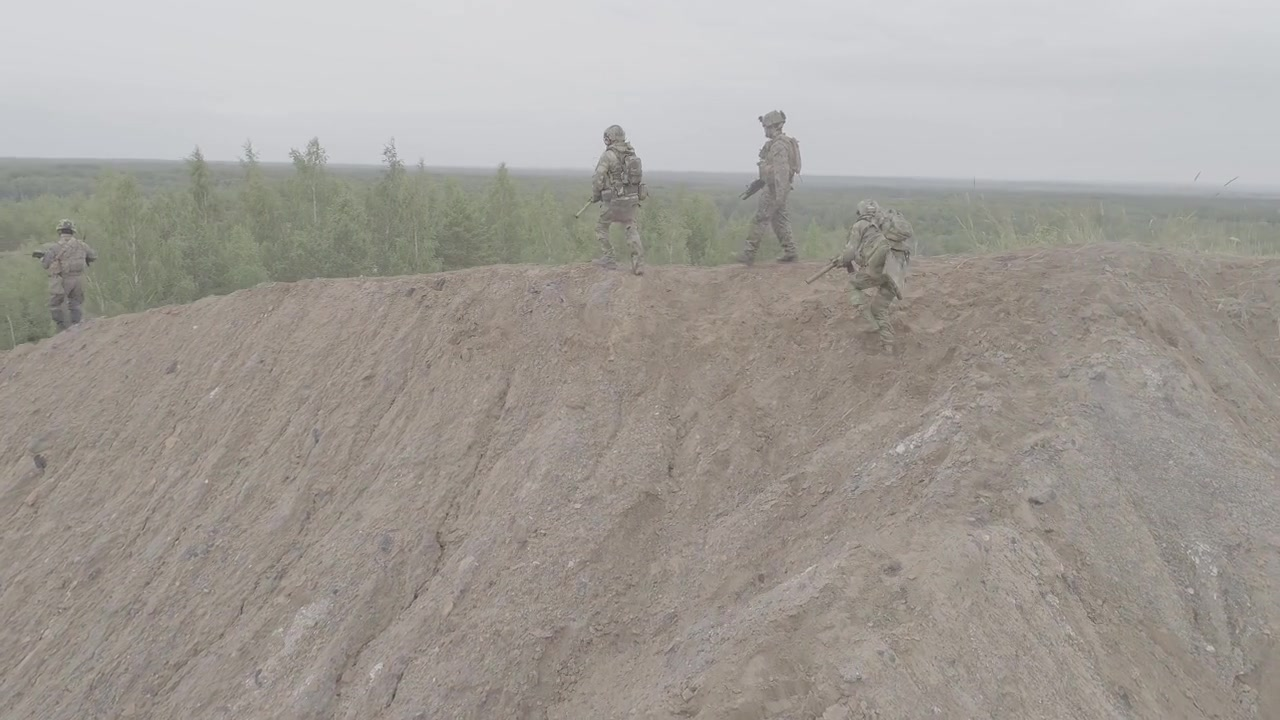person: (744, 109, 810, 265), (586, 130, 652, 276)
